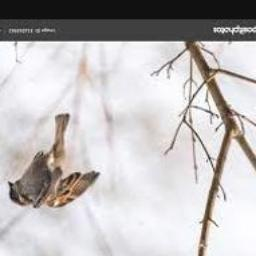Sparrow: (8, 114, 101, 209)
